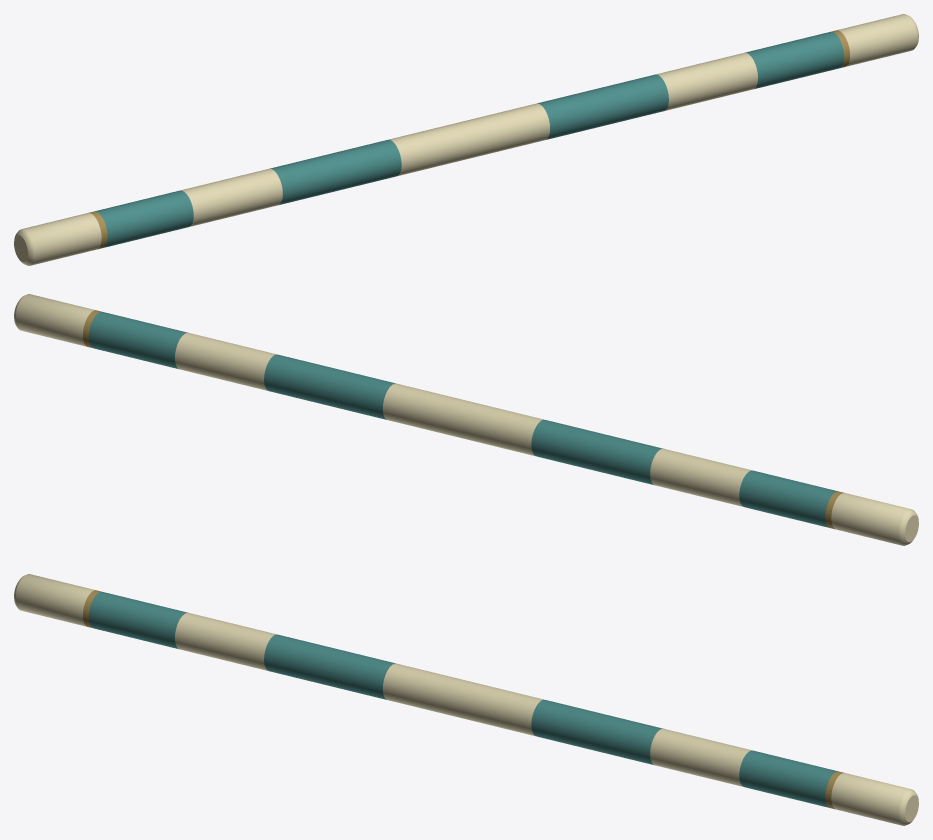
File: ground_pole.glb
The picture shows the model from 3 angles, top to bottom: view 1: azimuth 30°, elevation 25°; view 2: azimuth 150°, elevation 25°; view 3: azimuth 330°, elevation 25°; orthographic projection.
Visible parts, largest first — view 1: Horse_Ground_Pole; view 2: Horse_Ground_Pole; view 3: Horse_Ground_Pole.
Part boxes in pixels (left/top/right/bottom): Horse_Ground_Pole: left=14, top=14, right=918, bottom=265; Horse_Ground_Pole: left=14, top=294, right=918, bottom=545; Horse_Ground_Pole: left=14, top=574, right=918, bottom=825.
Size of the model in its own units: 3 by 0.11 by 0.11.
